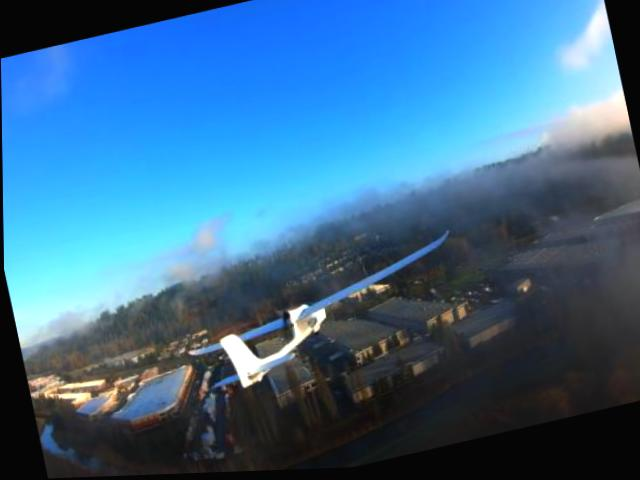uav: (163, 220, 478, 409)
